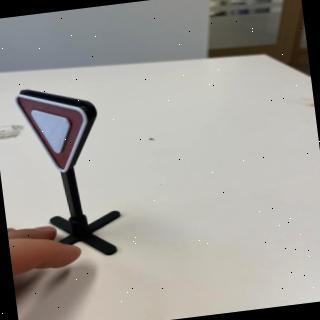sign_yield: (13, 85, 104, 184)
